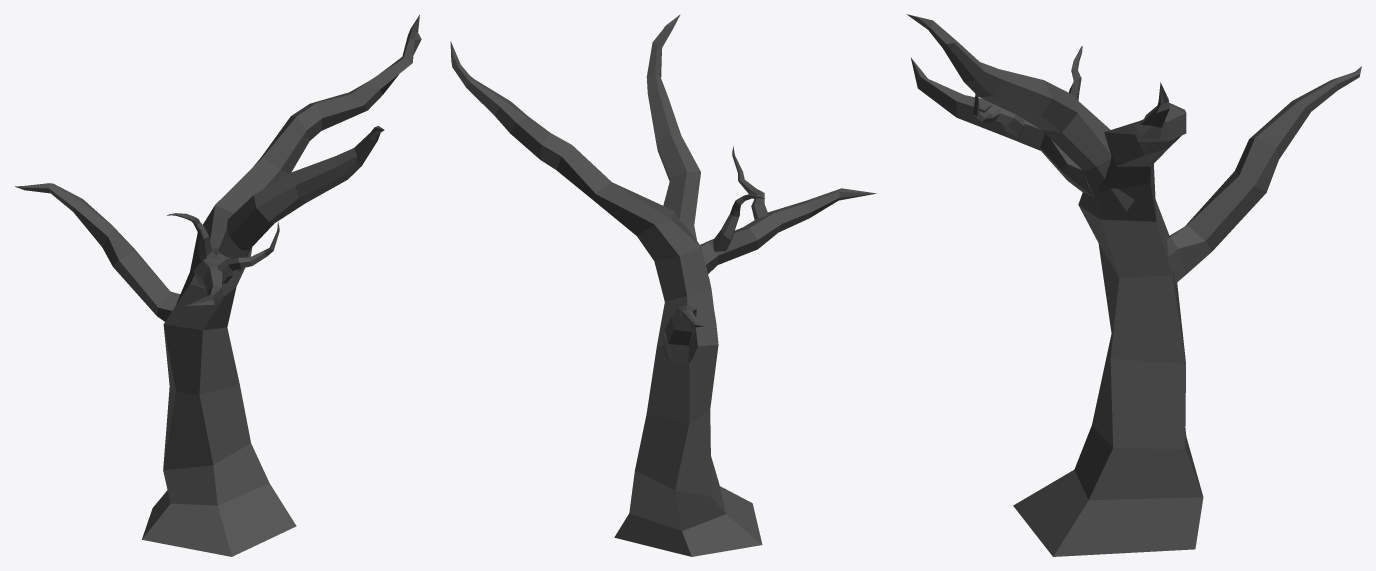
Rendered from Trunk_1.FBX.
3 views of the same model, side by side, from view 1: azimuth 30°, elevation 25°; view 2: azimuth 150°, elevation 25°; view 3: azimuth 270°, elevation 25° (orthographic). The views are drawn at different scales.
Visible parts, largest first — view 1: trunk_1; view 2: trunk_1; view 3: trunk_1.
Boxes of the visible parts, left/top/right/bottom form: trunk_1: left=15, top=14, right=421, bottom=556; trunk_1: left=450, top=14, right=876, bottom=556; trunk_1: left=906, top=14, right=1361, bottom=556.
Bounding box in the file's own units: 4.03 × 5.17 × 3.68.
Materials: 1 (1 with a texture image).
